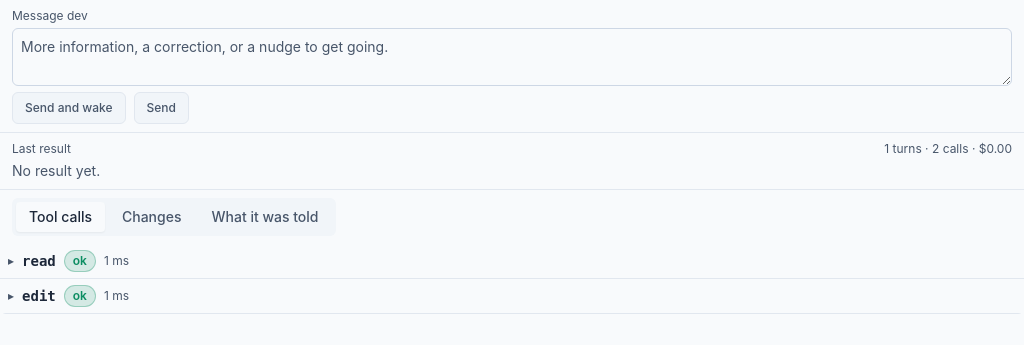
Test: AgentDetail Changes tab › refreshes after the role edits a file, not after a read
Press the mouse on the tab "Changes": (152,217) [109,202,194,232]
Wait 5000 ms
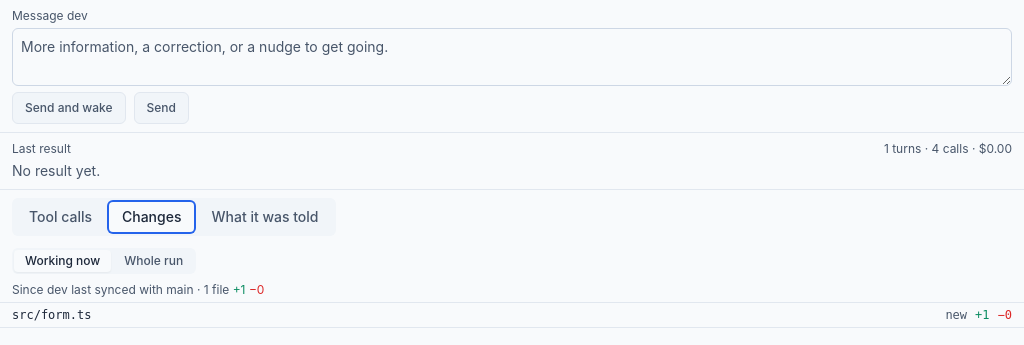
Result: the element with test id "role-changes-dev" is shown at [0,244,1023,328]
